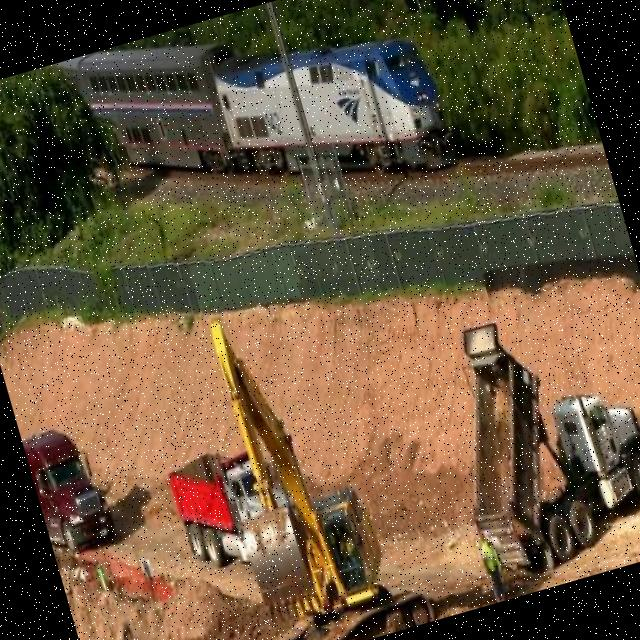Dump Truck: (419, 285, 640, 586), (162, 432, 306, 578), (20, 418, 120, 550)
Excavator: (174, 276, 435, 640)
